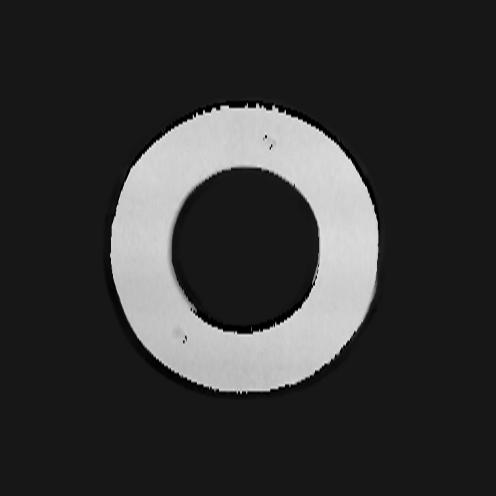defect: (172, 324, 187, 346), (263, 132, 276, 153)
